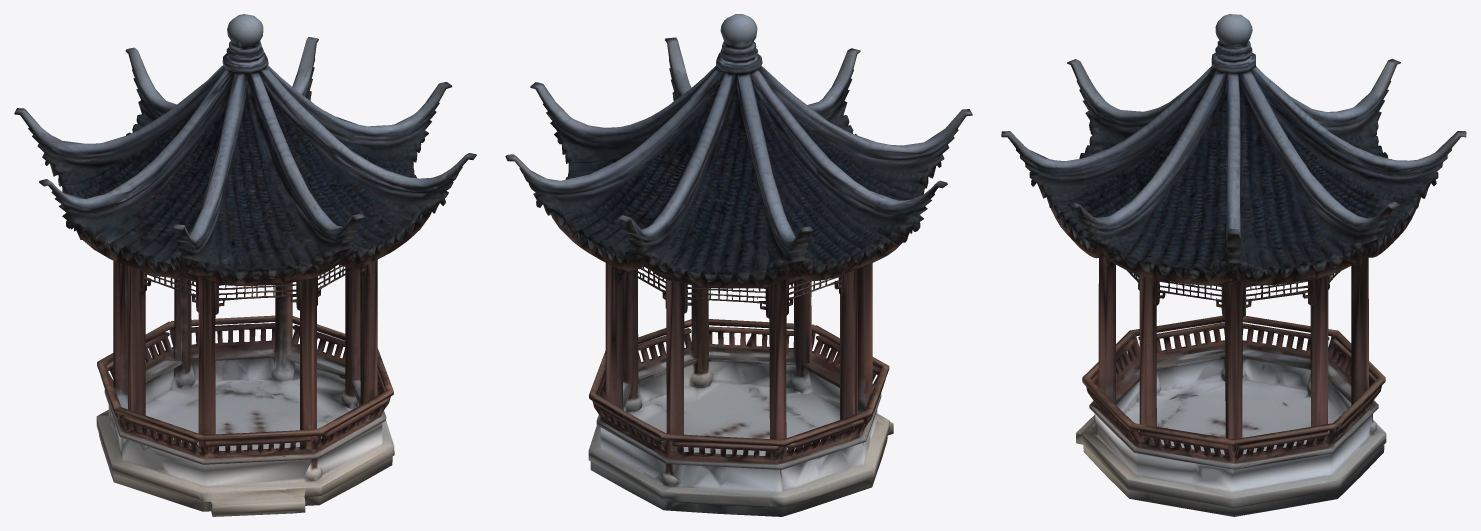
Rendered from pavilion.glb.
The picture shows the model from 3 angles, left to right: view 1: azimuth 30°, elevation 25°; view 2: azimuth 150°, elevation 25°; view 3: azimuth 270°, elevation 25°; orthographic projection.
Visible parts, largest first — view 1: node_0; view 2: node_0; view 3: node_0.
Part boxes in pixels (box(x1,y1,x2,y2)): node_0: box(14, 14, 476, 516); node_0: box(505, 14, 972, 516); node_0: box(1001, 14, 1466, 516).
Bounding box in the file's own units: 2.95 × 3 × 2.89.
Materials: 1 (1 with a texture image).
